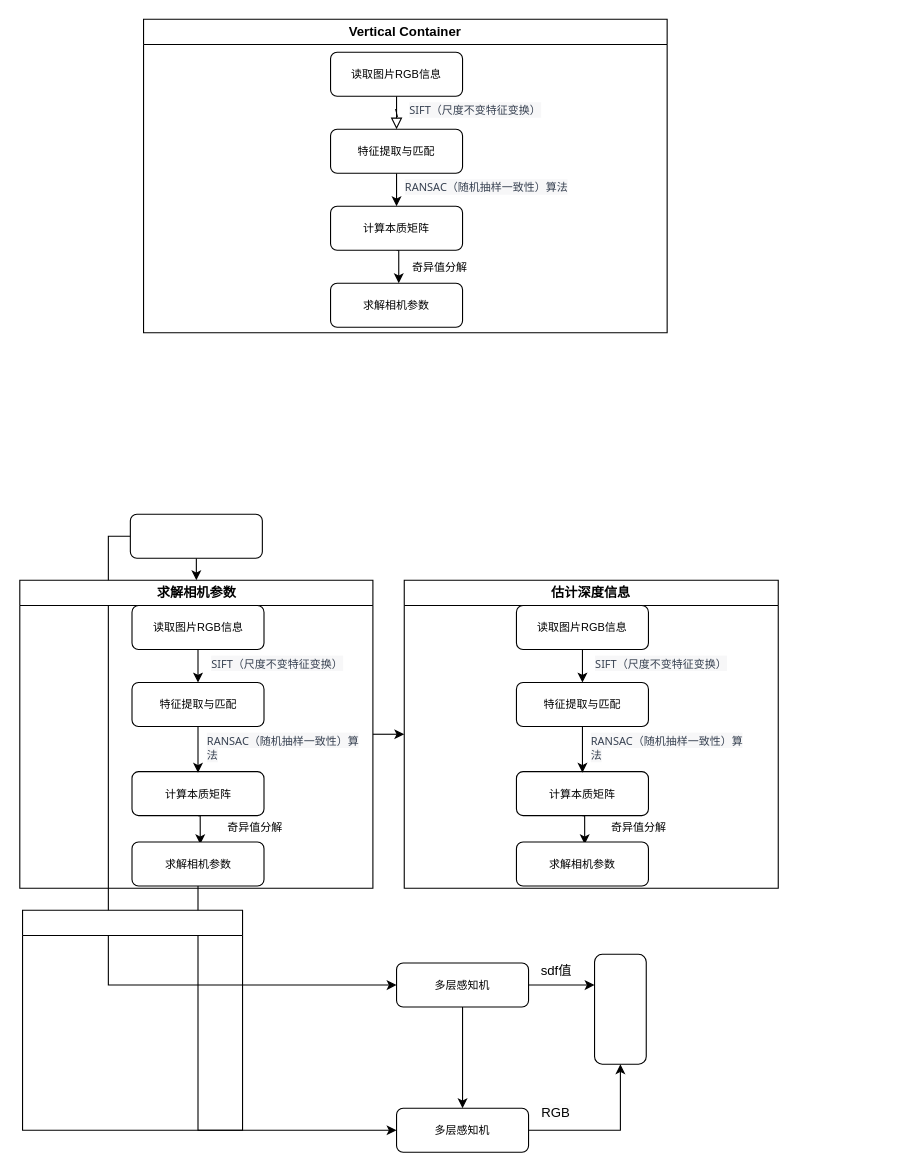
Image size: 915x1172. Some labels were removed from this diagram. The centre of each missing label's shape, as x and y in pixels:
位置编码: the point at 132,1019
体渲染: the point at 619,1008
采集图片信息: the point at 195,535
